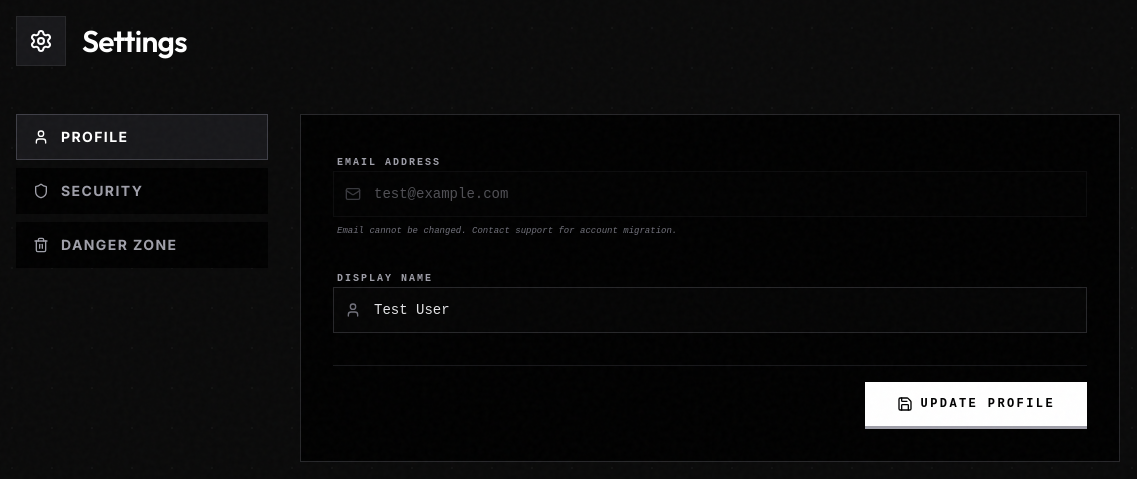
SettingsPage › should show password form when Security tab is active for local users
Click the button "Security". click: {"x": 142, "y": 191}
box: [16, 168, 268, 214]
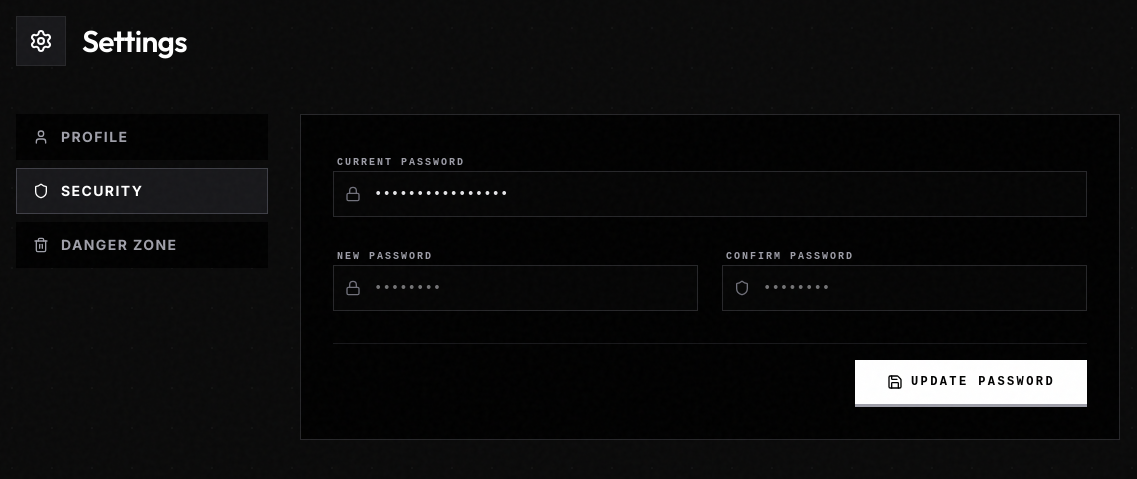
Now the text "Current Password" is shown, box [337, 157, 465, 168]
Now the text "New Password" is shown, box [337, 251, 433, 262]
